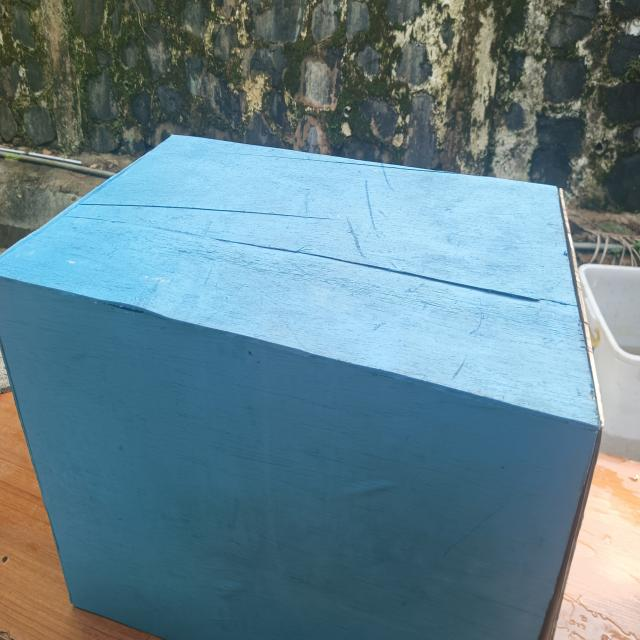blue_box: (0, 116, 639, 640)
